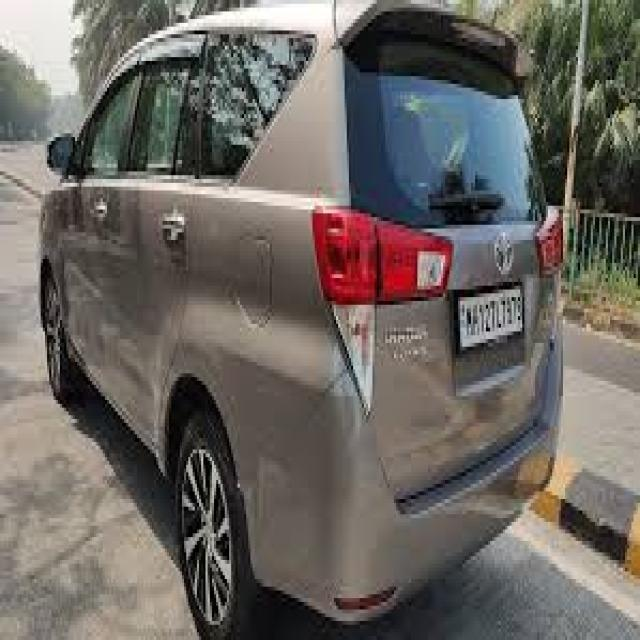light_vehicle: (39, 0, 564, 640)
